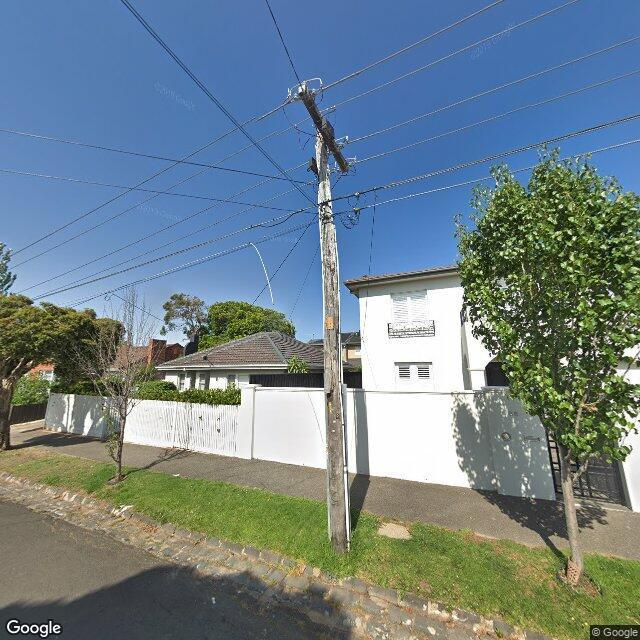crossarm: (284, 76, 357, 174)
timber-pole: (314, 129, 352, 541)
